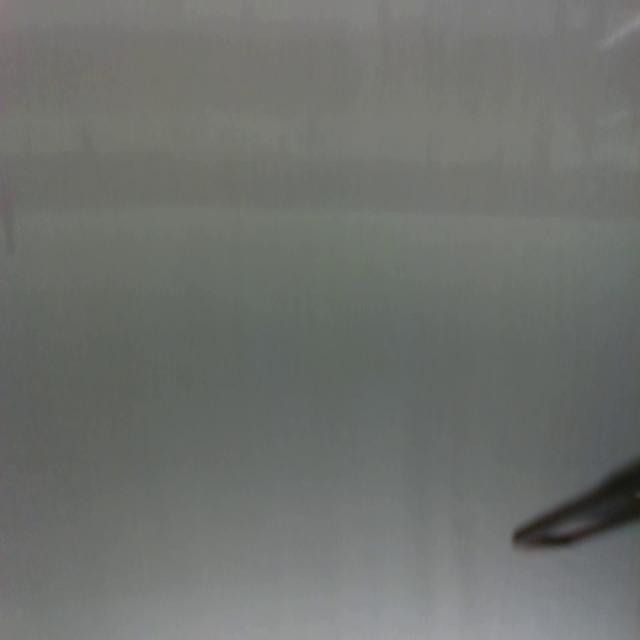color bleeding: (0, 18, 640, 121), (0, 136, 640, 227)
